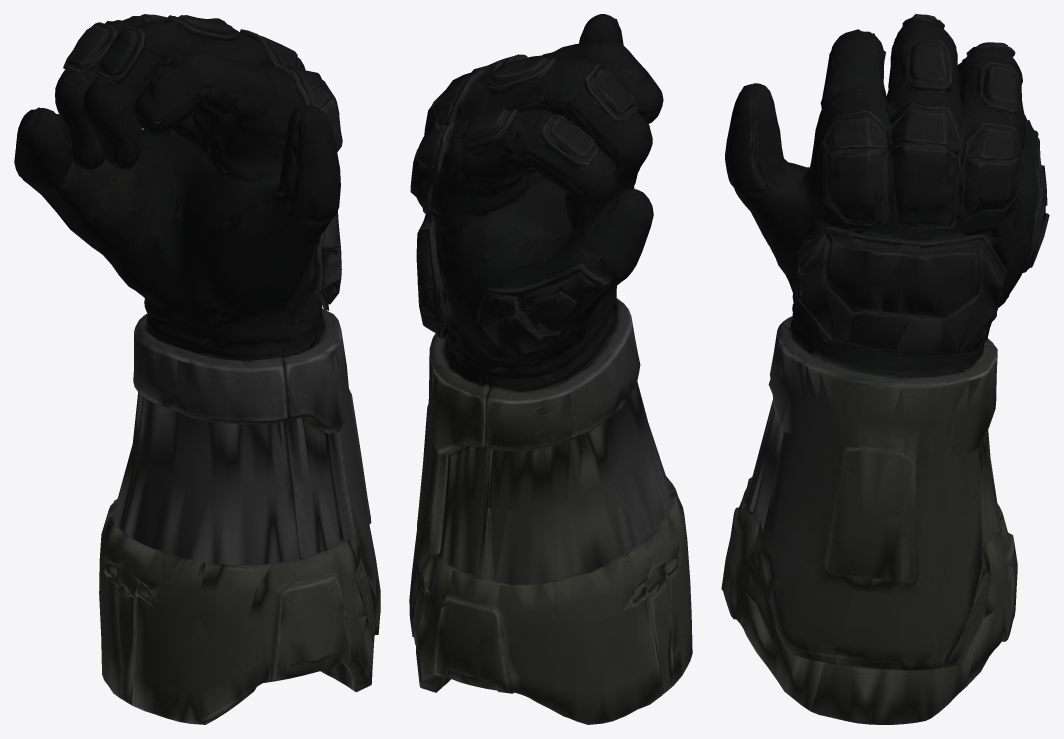
Rendered from hand-left.glb.
3 renders of one model, left to right at view 1: azimuth 30°, elevation 25°; view 2: azimuth 150°, elevation 25°; view 3: azimuth 270°, elevation 25°, orthographic. The views are drawn at different scales.
Visible parts, largest first — view 1: hand.001; view 2: hand.001; view 3: hand.001.
Part boxes in pixels (bbox=[...]): hand.001: bbox=[14, 14, 380, 724]; hand.001: bbox=[409, 14, 692, 724]; hand.001: bbox=[721, 14, 1049, 724].
Bounding box in the file's own units: 0.1332 × 0.31 × 0.1462.
1 material, 1 textured.
